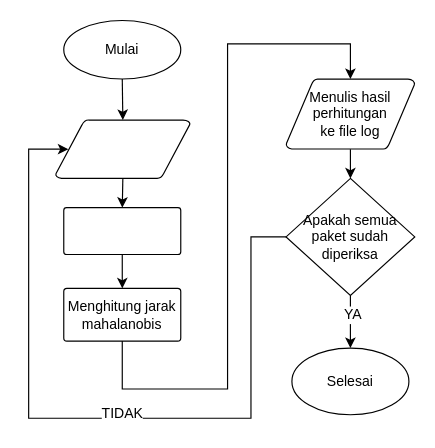
This 435x448 diagram has some shape labels left out. Each missing label, with the box of its shape:
Masukkan paket data: (54, 119, 190, 178)
Proses paket data: (63, 207, 181, 254)
